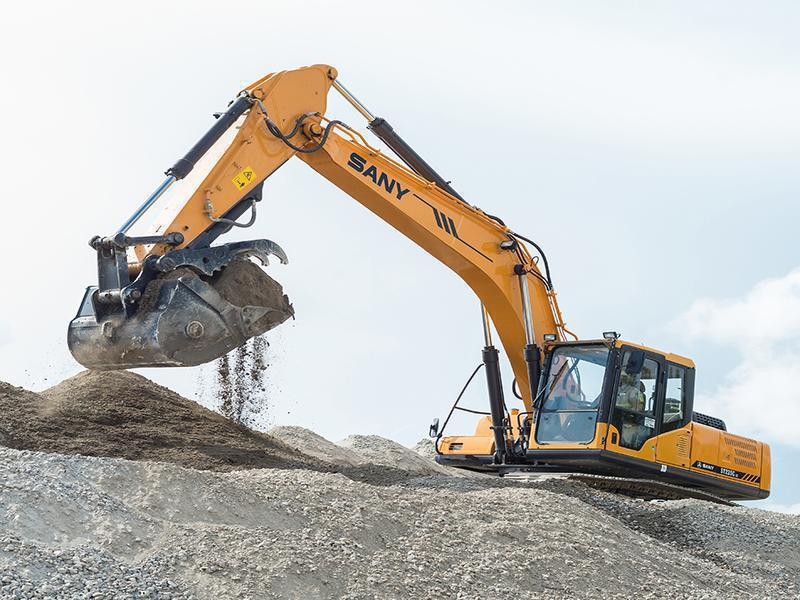shovel: (64, 59, 782, 508)
